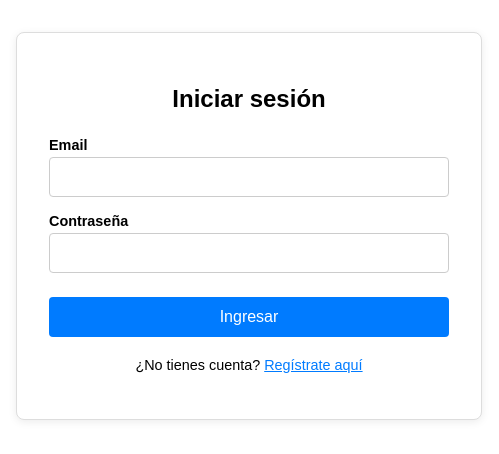
Test: LoginPage › muestra el error y no navega cuando el login falla
Type "oscar@test.com" into the field labelled "Email". click: (249,177)
box: [49, 157, 449, 197]
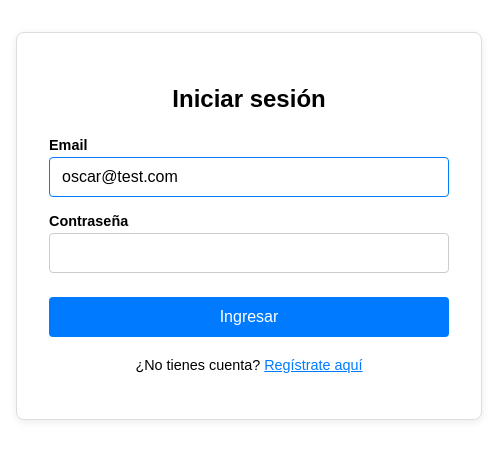
Type "wrong" into the password field labelled "Contraseña". click: (249,253)
box: [49, 233, 449, 273]
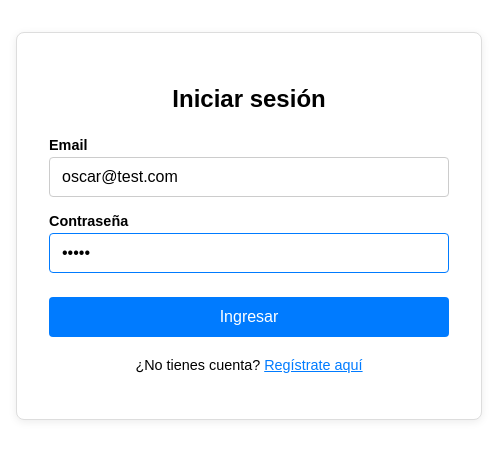
Click the button "Ingresar". click: (249,317)
box: [49, 296, 449, 337]
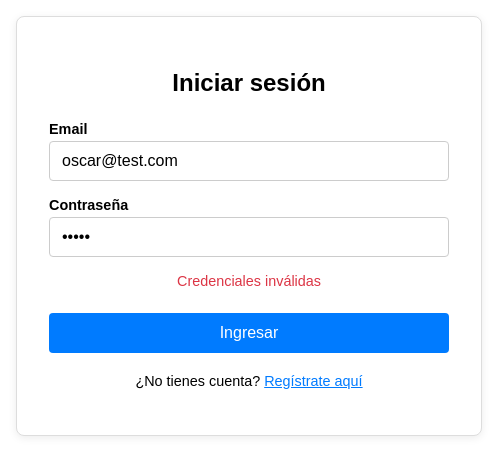
Expected: the text "Credenciales inválidas" is shown, [177, 272, 321, 288]
